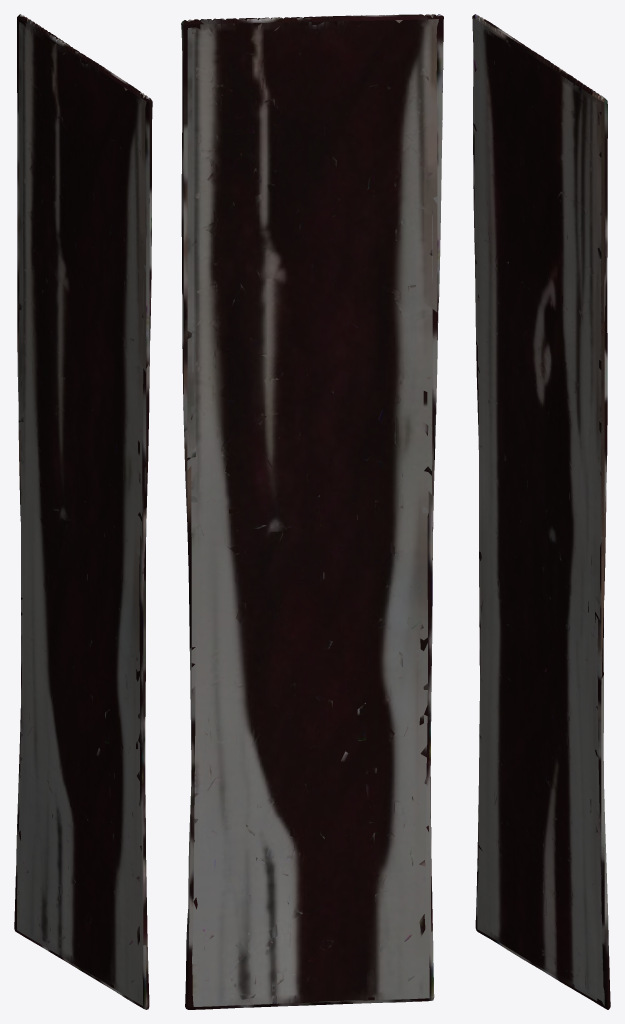
Rendered from garak_horror3.glb.
3 views of the same model, side by side, from view 1: azimuth 90°, elevation 25°; view 2: azimuth 150°, elevation 25°; view 3: azimuth 270°, elevation 25° (orthographic). The views are drawn at different scales.
Visible parts, largest first — view 1: horror3.obj; view 2: horror3.obj; view 3: horror3.obj.
Boxes of the visible parts, <box> form: horror3.obj: <box>14,14,152,1009</box>; horror3.obj: <box>181,14,443,1009</box>; horror3.obj: <box>472,14,610,1009</box>.
Size of the model in its own units: 0.4005 by 1.97 by 0.2698.
Materials: 1 (1 with a texture image).
